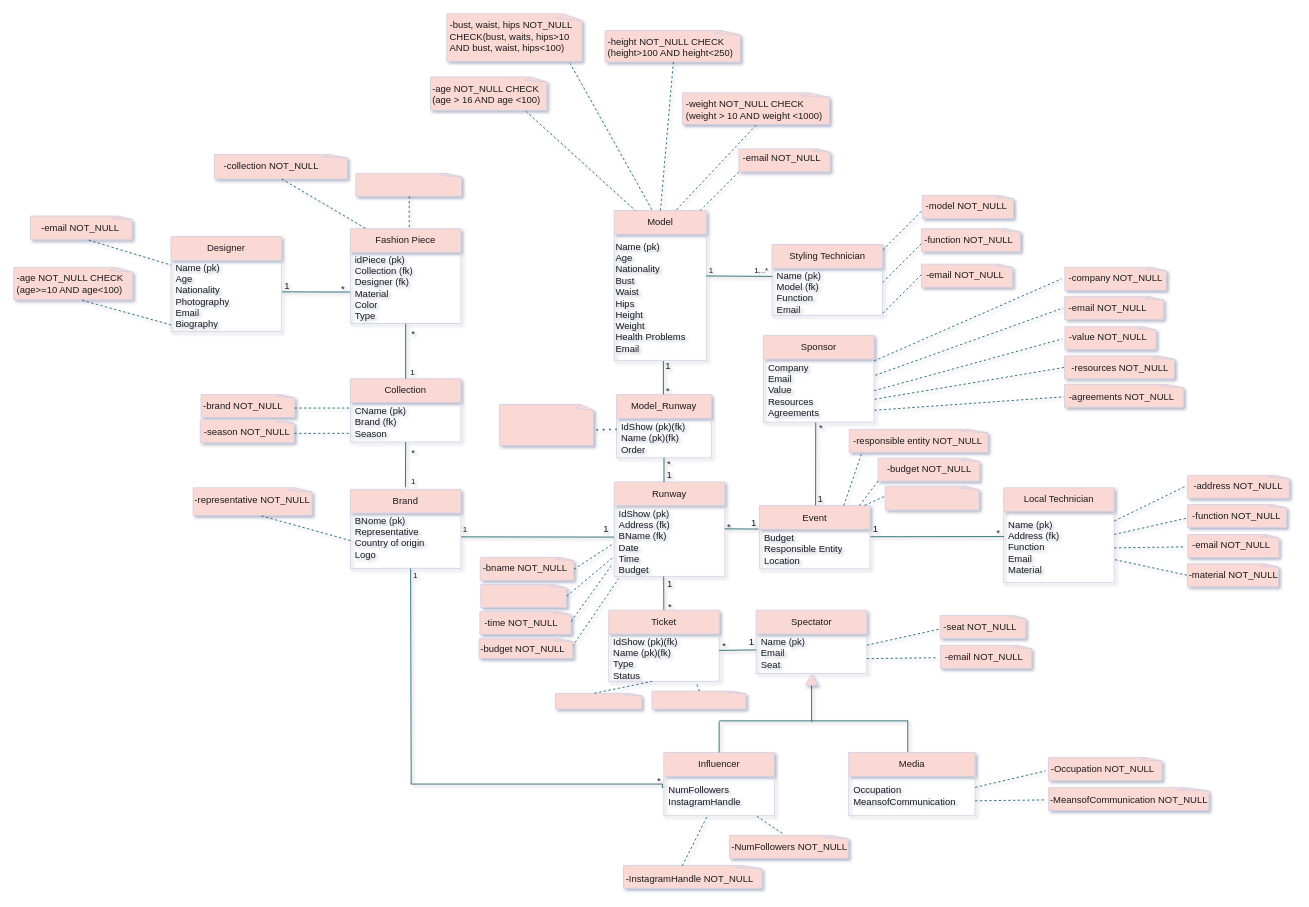
Some shapes in this 1309 by 907 pixel diagram are drawn without their labels. The shapes that lost their labels are listed below. From the top down, each one's centre as x and y in pixels, then its label:
the point at 409,184: -designer NOT_NULL
the point at 546,425: -order NOT_NULL CHECK (order >0 AND order<100)
the point at 932,497: -location NOT_NULL
the point at 523,596: -date NOT_NULL
the point at 599,701: -type NOT_NULL
the point at 699,699: -status NOT_NULL
